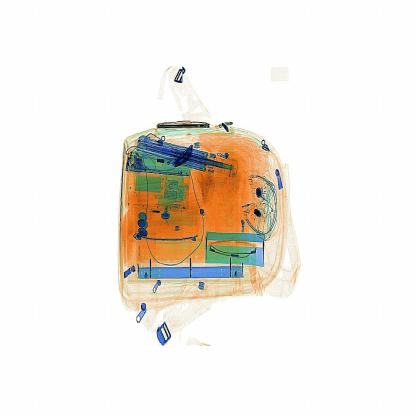knife: (170, 136, 204, 174)
